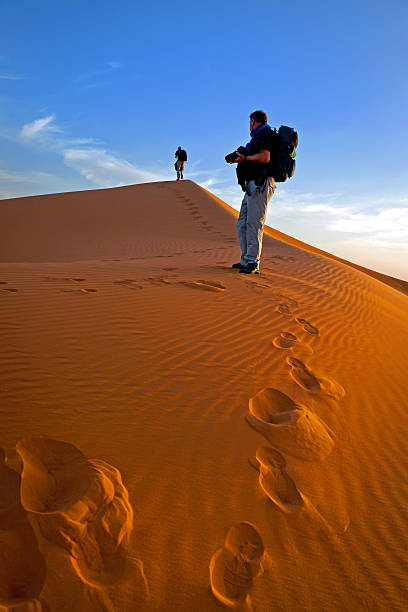human_footprint: (17, 437, 132, 585), (248, 445, 348, 539), (248, 445, 348, 538), (0, 449, 45, 610), (246, 388, 334, 460), (209, 521, 267, 609), (249, 446, 303, 513), (286, 356, 344, 399), (143, 274, 225, 292), (286, 356, 320, 392), (272, 332, 313, 357), (44, 276, 96, 292), (275, 294, 297, 317), (180, 280, 225, 291), (295, 317, 318, 334), (272, 332, 296, 348), (114, 279, 142, 289), (275, 302, 291, 317), (61, 288, 96, 292), (63, 277, 85, 282), (0, 287, 17, 293), (0, 281, 7, 284)
